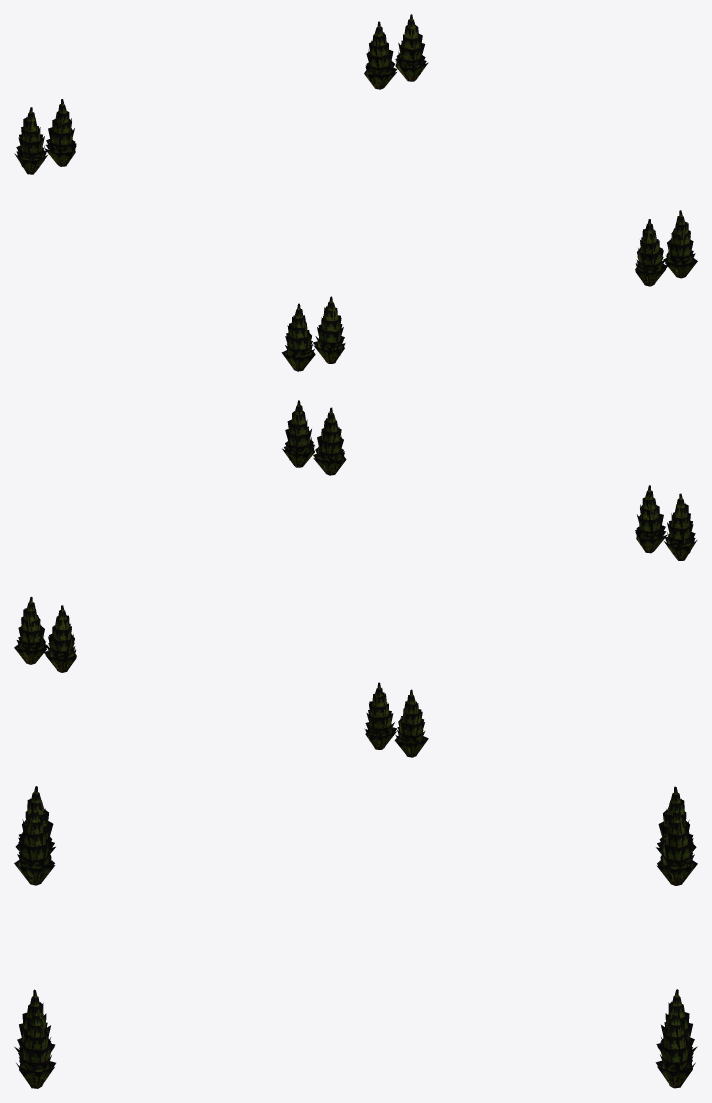
The model's file is mausoleum_cypress_01.dae.
3 renders of one model, top to bottom at view 1: azimuth 30°, elevation 25°; view 2: azimuth 150°, elevation 25°; view 3: azimuth 270°, elevation 25°, orthographic. The views are drawn at different scales.
Parts seen in each view (by area): view 1: mace_mausoleum_cypress_01; view 2: mace_mausoleum_cypress_01; view 3: mace_mausoleum_cypress_01.
Boxes of the visible parts, <box> form: mace_mausoleum_cypress_01: <box>14,14,697,371</box>; mace_mausoleum_cypress_01: <box>14,400,697,757</box>; mace_mausoleum_cypress_01: <box>14,786,697,1088</box>.
Bounding box in the file's own units: 34.38 × 41.85 × 5.28.
